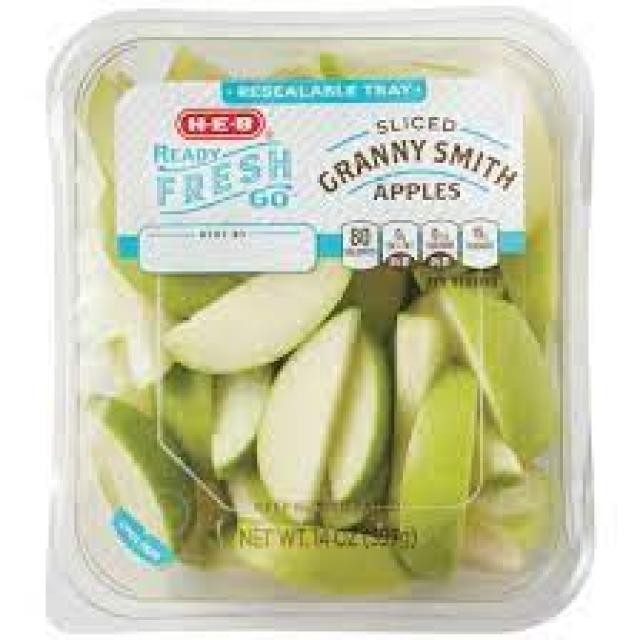Apple: (262, 312, 362, 521), (431, 270, 552, 435), (168, 272, 363, 365), (83, 396, 191, 548), (216, 505, 405, 590), (414, 366, 475, 591), (387, 309, 432, 502), (342, 335, 384, 500), (206, 370, 263, 482), (163, 360, 207, 469)
